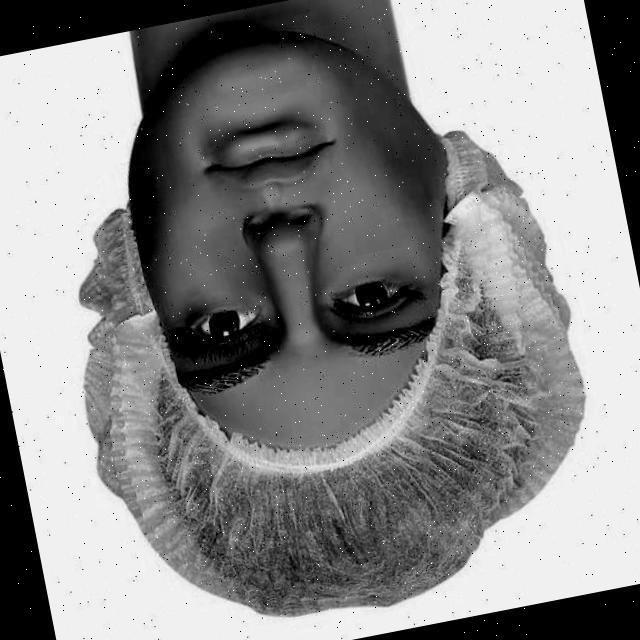gloves: (100, 344, 618, 618)
no_hairnet: (126, 49, 403, 307)
